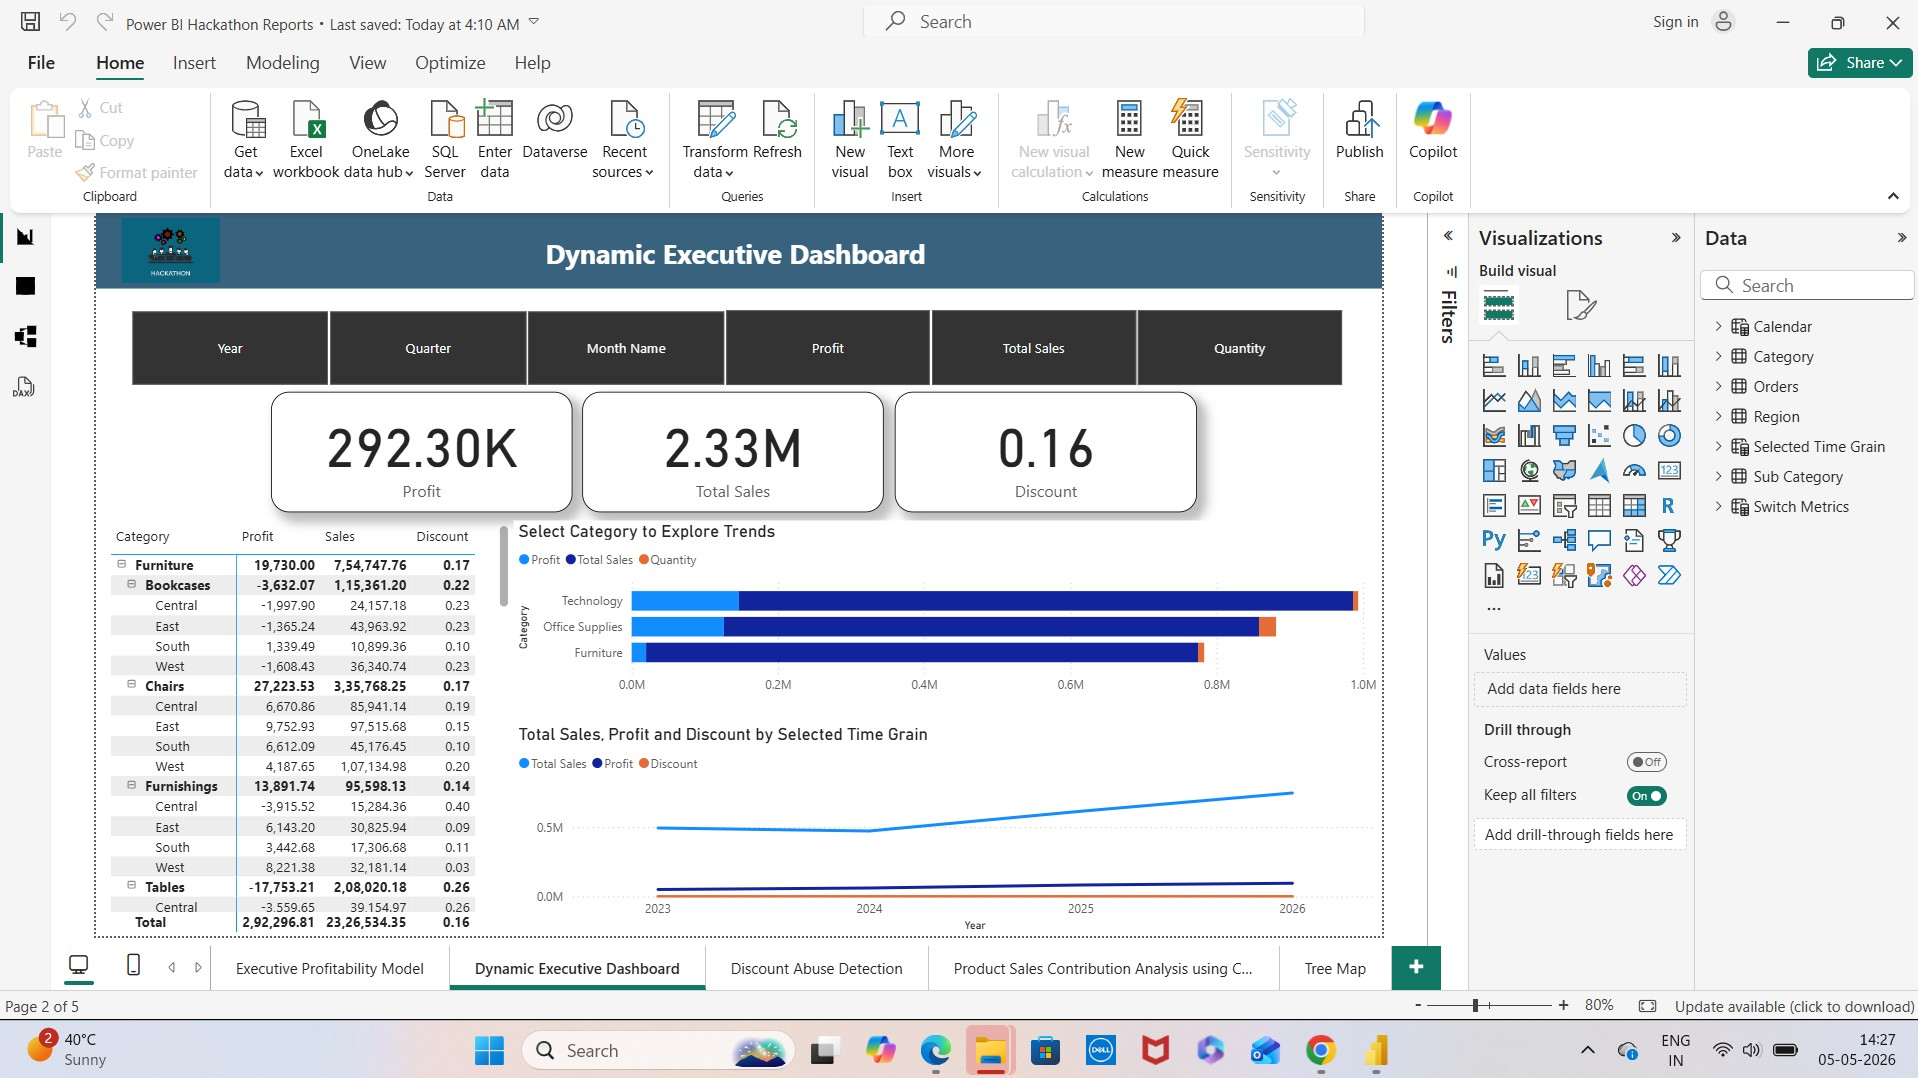

The page's visual inventory and layout, read from the dashboard file:
{"tool":"powerbi","page":{"name":"Dynamic Executive Dashboard ","canvas":[1280,720],"ordinal":1},"visuals":[{"type":"pivotTable","fields":{"Rows":["Executive Profitability Model.Category","Executive Profitability Model.Sub-Category","Executive Profitability Model.Region"],"Values":["Executive Profitability Model.Stable Profit","Sum(Executive Profitability Model.Sales)","Executive Profitability Model.Stable Discount"]},"box":[10,306,405.5,414.2],"z":0},{"type":"slicer","fields":{"Values":["Category.Category"]},"box":[252.5,8.2,300.5,81],"z":1000},{"type":"slicer","fields":{"Values":["Region.Region"]},"box":[842.5,9.6,300.5,81],"z":2000},{"type":"card","fields":{"Values":["Executive Profitability Model.Profit_Click"]},"box":[174.3,177.3,300,120],"z":3000},{"type":"card","fields":{"Values":["Executive Profitability Model.Total Sales"]},"box":[484.3,177.3,300,120],"z":4000},{"type":"card","fields":{"Values":["Executive Profitability Model.Stable Discount"]},"box":[794.3,177.3,301,120],"z":5000},{"type":"lineChart","title":"Total Sales, Profit and Discount by Selected Time Grain","fields":{"Category":["Calendar.Year","Calendar.Quarter","Calendar.Month Name"],"Y":["Executive Profitability Model.Total_Sales_Click","Executive Profitability Model.Profit_Click","Executive Profitability Model.Discount_Click"]},"box":[415.5,508.8,864.6,211.5],"z":6000},{"type":"textbox","box":[0,0,1280.3,75],"z":7000},{"type":"barChart","title":"Select Category to Explore Trends","fields":{"Y":["Orders.Profit_Click","Orders.Total_Sales_Click","Orders.Quantity_click"],"Category":["Executive Profitability Model.Category"]},"box":[415.5,306,864.6,181.6],"z":8000},{"type":"image","box":[0,0,149.3,74.6],"z":9000},{"type":"slicer","fields":{"Values":["Selected Time Grain.Selected Time Grain"]},"box":[10,90.8,639.4,87.1],"z":10000},{"type":"slicer","fields":{"Values":["Switch Metrics.Switch Metrics"]},"box":[600.8,89.6,663,88.3],"z":11000}]}

Visuals, with their boxes on the page's 1280x720 design canvas (x1, y1, x2, y2). These are canvas units, not pixel positions in the 1918x1078 screenshot, which may show the page scaled, cropped or inside an application window:
pivotTable - Executive Profitability Model.Category x Executive Profitability Model.Sub-Category: (left=10, top=306, right=416, bottom=720)
slicer - Category.Category: (left=252, top=8, right=553, bottom=89)
slicer - Region.Region: (left=842, top=10, right=1143, bottom=91)
card - Executive Profitability Model.Profit_Click: (left=174, top=177, right=474, bottom=297)
card - Executive Profitability Model.Total Sales: (left=484, top=177, right=784, bottom=297)
card - Executive Profitability Model.Stable Discount: (left=794, top=177, right=1095, bottom=297)
"Total Sales, Profit and Discount by Selected Time Grain" lineChart: (left=416, top=509, right=1280, bottom=720)
textbox: (left=0, top=0, right=1280, bottom=75)
"Select Category to Explore Trends" barChart: (left=416, top=306, right=1280, bottom=488)
image: (left=0, top=0, right=149, bottom=75)
slicer - Selected Time Grain.Selected Time Grain: (left=10, top=91, right=649, bottom=178)
slicer - Switch Metrics.Switch Metrics: (left=601, top=90, right=1264, bottom=178)
